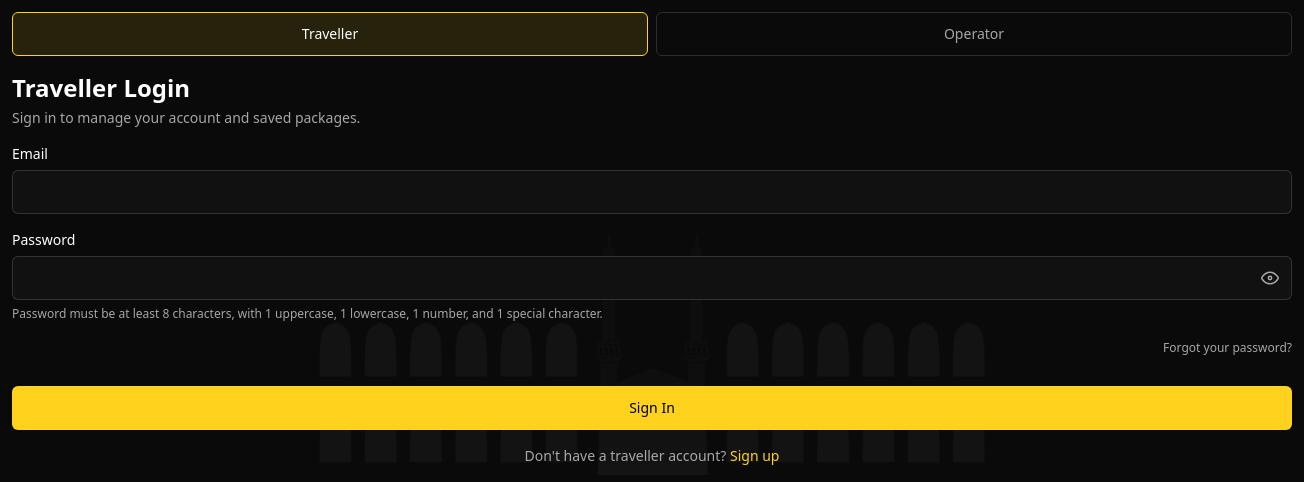
Test case: LoginForm › switches between Traveller and Partner tabs
Expected: the heading "Traveller Login" is shown, [12,71,190,104]
// Switch to Partner
Click the tab with test id "login-tab-partner".
click(974, 34)  # box [656,12,1292,56]
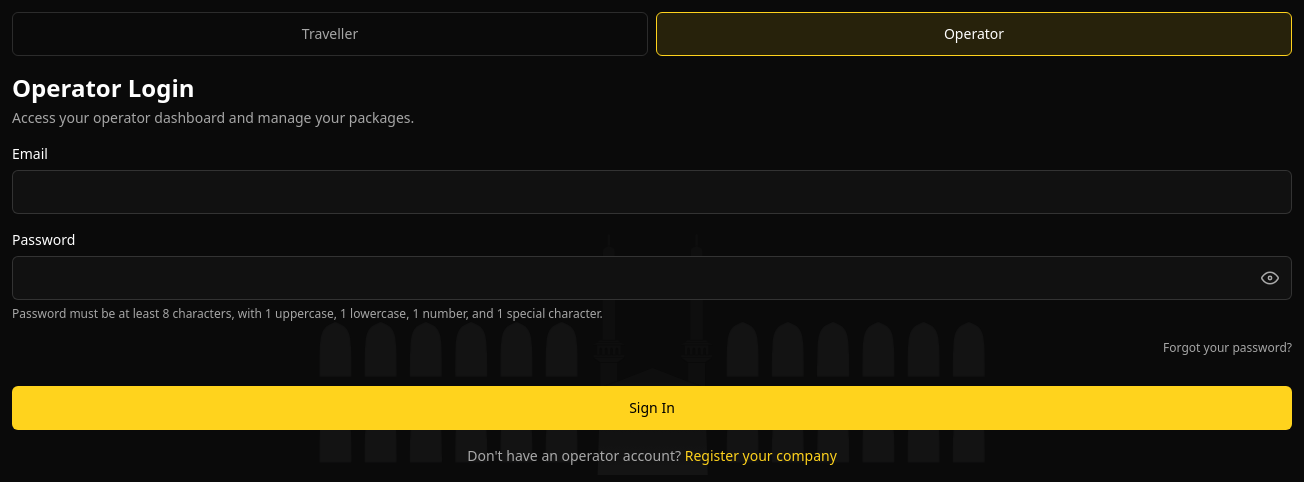
Expected: the heading "Operator Login" is shown, [12,71,194,104]
// Switch back to Traveller
Click the tab with test id "login-tab-customer".
click(330, 34)  # box [12,12,648,56]
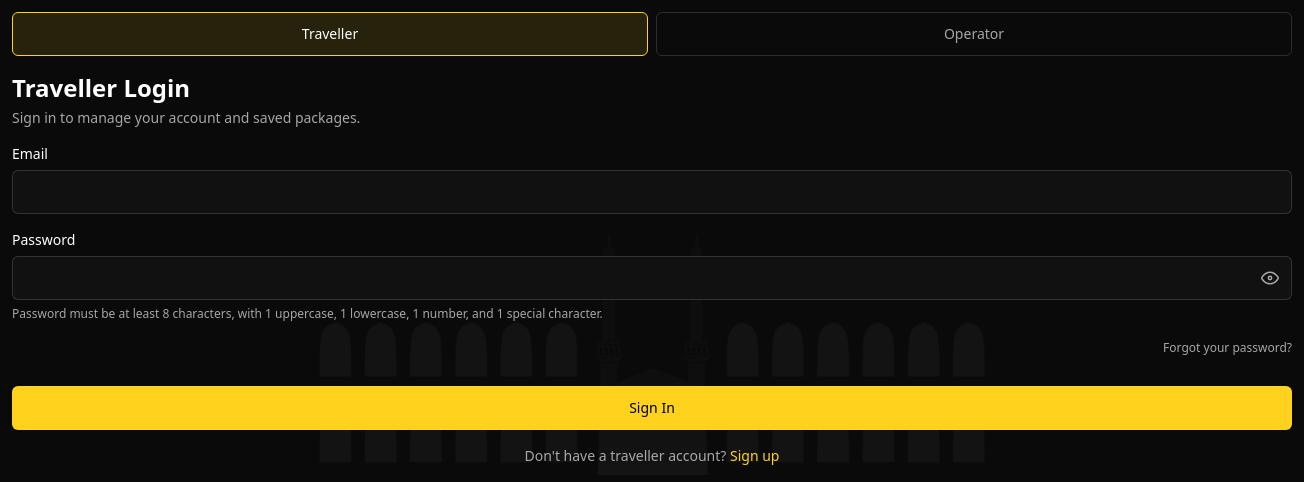
Expected: the heading "Traveller Login" is shown, [12,71,190,104]
